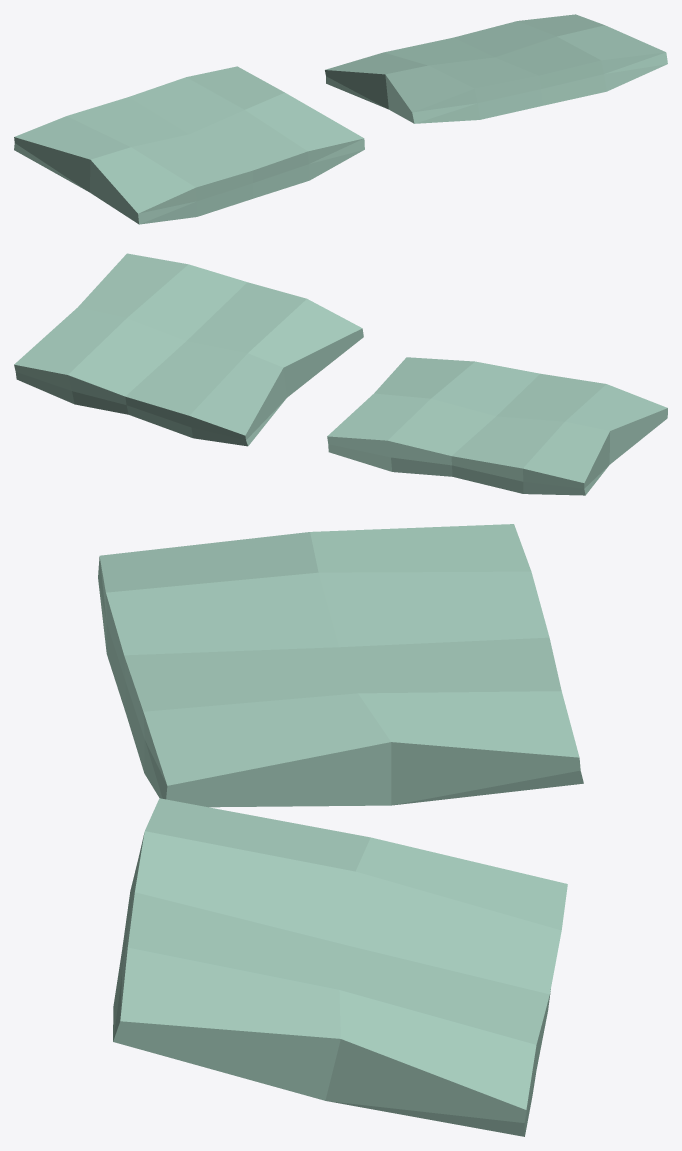
The model's file is Accesories_pillows.glb.
3 views of the same model, one above another, from view 1: azimuth 30°, elevation 25°; view 2: azimuth 150°, elevation 25°; view 3: azimuth 270°, elevation 25° (orthographic). The views are drawn at different scales.
Parts seen in each view (by area): view 1: Accesories_pillows; view 2: Accesories_pillows; view 3: Accesories_pillows.
Part boxes in pixels (x1,y1,x2,y2): Accesories_pillows: (14,14,667,224); Accesories_pillows: (14,253,667,495); Accesories_pillows: (98,524,583,1136).
Size of the model in its own units: 1.23 by 0.1443 by 0.4568.
Materials: 1 (1 with a texture image).
